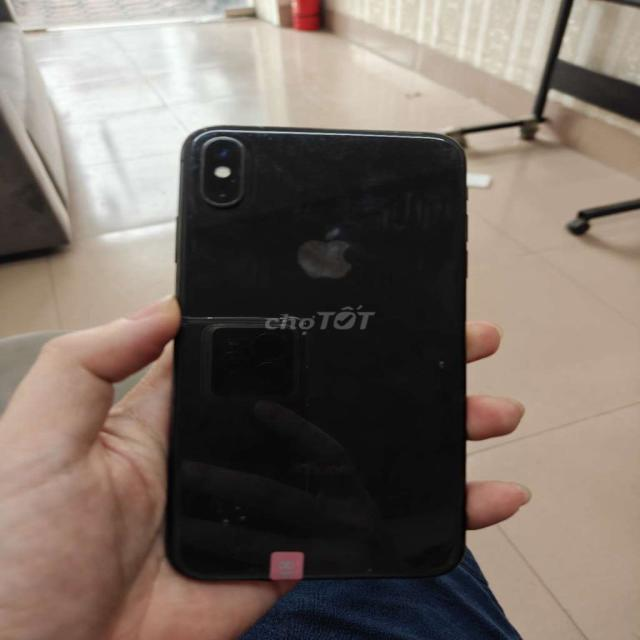gen_x_xs: (148, 114, 488, 590)
scratch: (196, 120, 362, 169), (417, 122, 473, 176), (208, 488, 262, 542), (351, 561, 391, 584), (428, 345, 451, 376)
